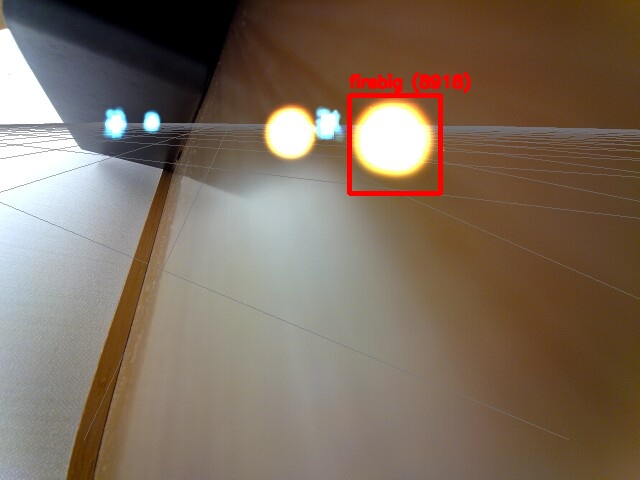firebig: (349, 95, 440, 193)
